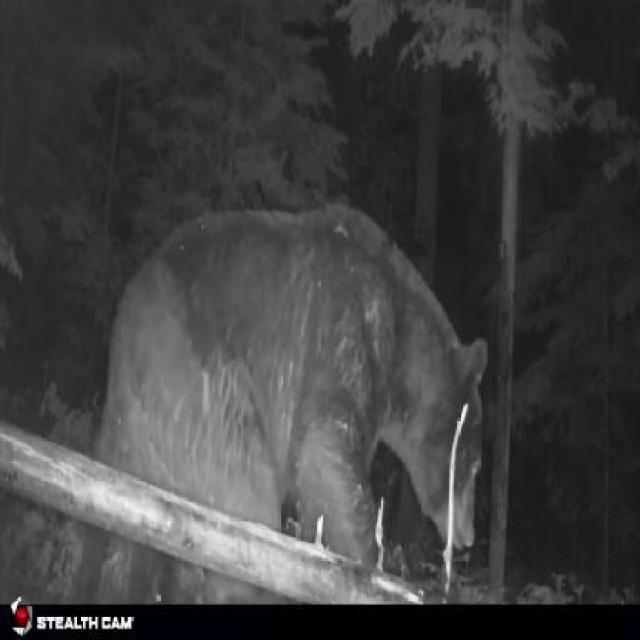Bear: (112, 140, 514, 602)
